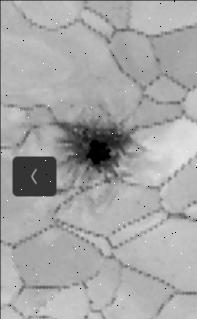good_void: (56, 100, 149, 193), (135, 199, 142, 205)
